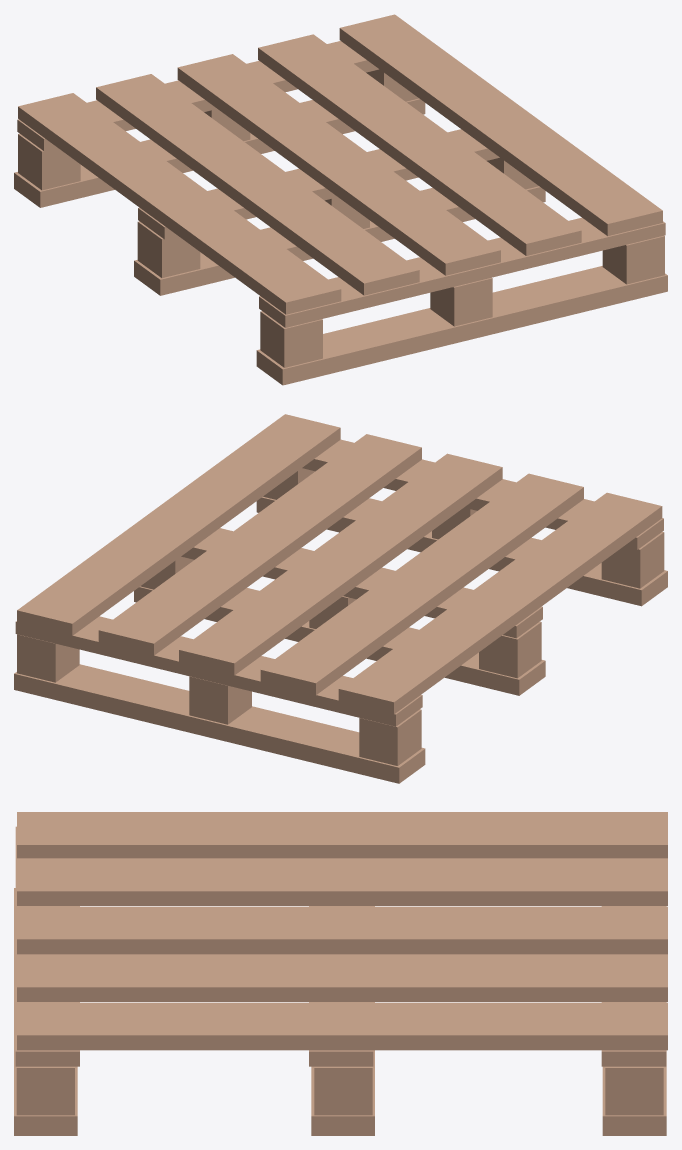
File: paletNUEVO.fbx
3 views of the same model, one above another, from view 1: azimuth 30°, elevation 25°; view 2: azimuth 150°, elevation 25°; view 3: azimuth 270°, elevation 25° (orthographic). The views are drawn at different scales.
Visible parts, largest first — view 1: PaletNUEVO; view 2: PaletNUEVO; view 3: PaletNUEVO.
Part boxes in pixels (box(x1,y1,x2,y2)): PaletNUEVO: box(14, 14, 667, 385); PaletNUEVO: box(14, 414, 667, 783); PaletNUEVO: box(14, 812, 667, 1135).
Size of the model in its own units: 99.55 by 19.97 by 121.
